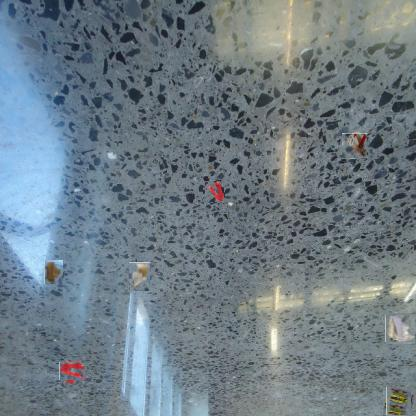dirty: (386, 314, 416, 343), (384, 388, 413, 416), (342, 133, 367, 159), (128, 262, 150, 291), (43, 262, 65, 283)
liquid: (62, 360, 84, 383), (204, 182, 225, 203)
